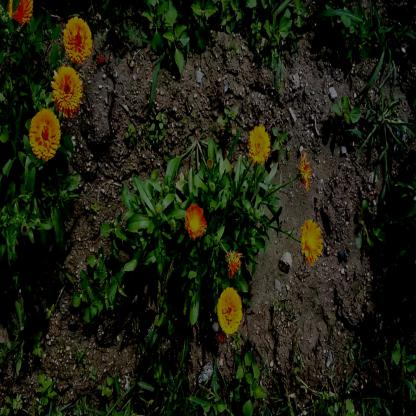marigold: (29, 106, 58, 159), (60, 18, 89, 60), (50, 66, 77, 110), (217, 288, 242, 334), (302, 218, 324, 263), (249, 124, 271, 162), (184, 204, 207, 239), (8, 0, 33, 26)
